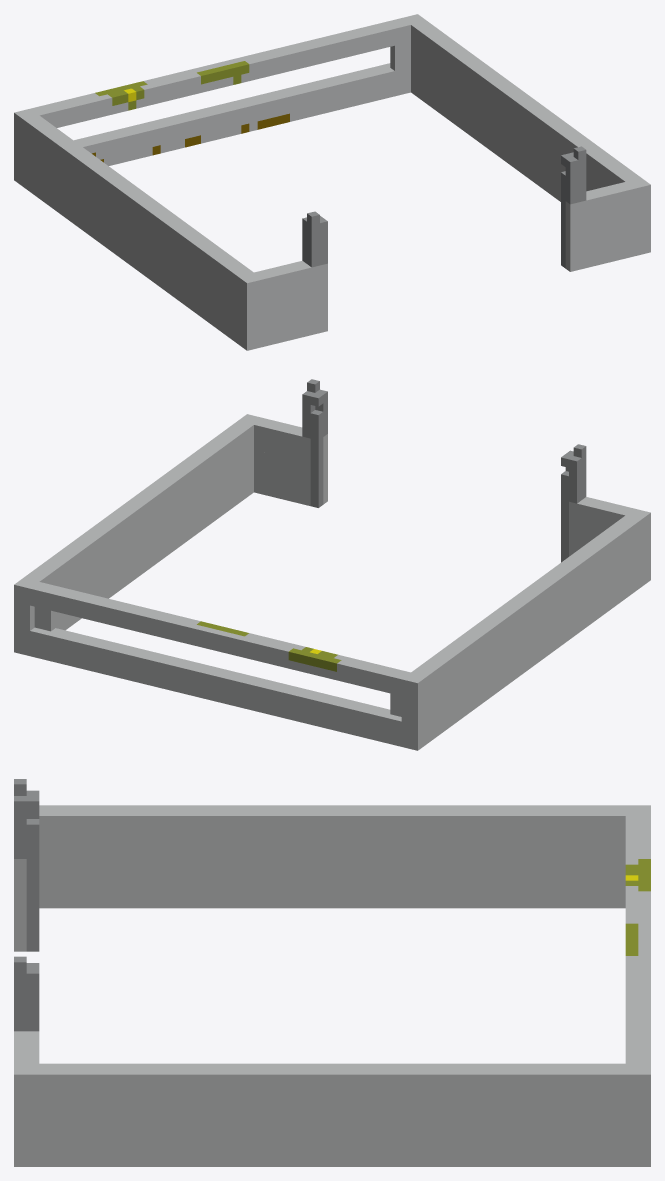
Rendered from Walls.fbx.
3 renders of one model, top to bottom at view 1: azimuth 30°, elevation 25°; view 2: azimuth 150°, elevation 25°; view 3: azimuth 270°, elevation 25°, orthographic. The views are drawn at different scales.
Visible parts, largest first — view 1: Walls:model_Walls_obj; view 2: Walls:model_Walls_obj; view 3: Walls:model_Walls_obj.
Boxes of the visible parts, bbox=[...] form: Walls:model_Walls_obj: bbox=[14, 14, 650, 350]; Walls:model_Walls_obj: bbox=[14, 379, 650, 750]; Walls:model_Walls_obj: bbox=[14, 779, 650, 1166].
Size of the model in its own units: 50 by 14 by 50.
